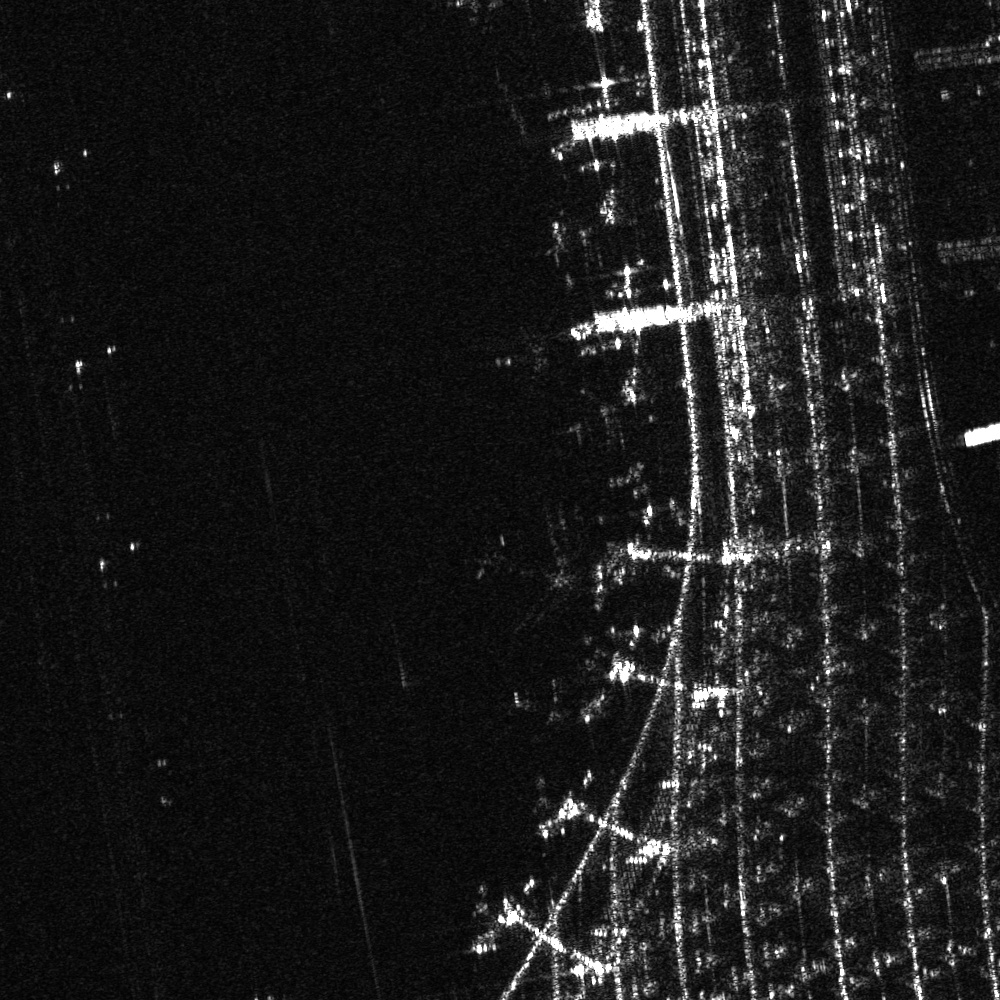A220: (505, 674, 571, 735)
Boeing787: (489, 320, 561, 389)
other: (464, 502, 583, 635)
